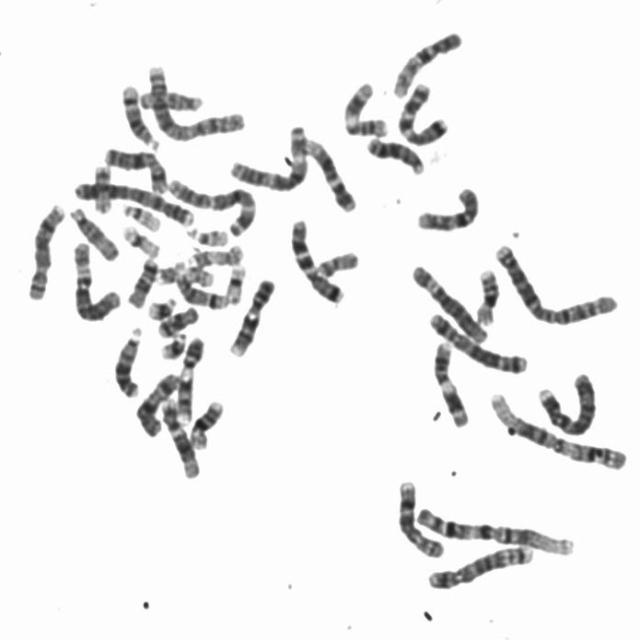A1: (483, 384, 630, 473), (408, 498, 578, 558)
A2: (489, 234, 622, 328), (141, 57, 249, 142)
A3: (223, 116, 312, 193), (162, 172, 259, 238)
B4: (68, 174, 197, 228), (532, 362, 600, 438)
B5: (424, 304, 530, 375), (422, 536, 537, 592)
C10: (386, 22, 466, 100), (410, 178, 483, 234)
C11: (427, 333, 472, 429), (336, 73, 391, 139)
C12: (297, 129, 359, 214), (154, 392, 202, 479)
C6: (405, 256, 491, 345), (66, 235, 125, 323)
C7: (284, 210, 347, 305), (392, 74, 452, 148)
C8: (20, 195, 68, 301), (391, 473, 447, 559)
C9: (223, 271, 278, 358), (171, 327, 207, 421)
D13: (360, 129, 427, 175), (108, 320, 146, 399)
D14: (115, 75, 163, 152), (172, 264, 231, 311)
D15: (64, 199, 122, 262), (134, 82, 207, 112)
E16: (183, 392, 227, 451), (470, 261, 502, 327)
E17: (183, 236, 247, 269), (155, 264, 219, 289)
E18: (122, 250, 160, 309), (152, 299, 202, 339)
F19: (116, 218, 163, 258), (220, 257, 249, 305)
F20: (311, 242, 362, 280), (87, 158, 115, 215)
G21: (141, 288, 179, 321), (154, 325, 189, 360)
G22: (117, 196, 163, 232), (181, 219, 231, 247)
X: (98, 138, 170, 195), (130, 364, 182, 439)
